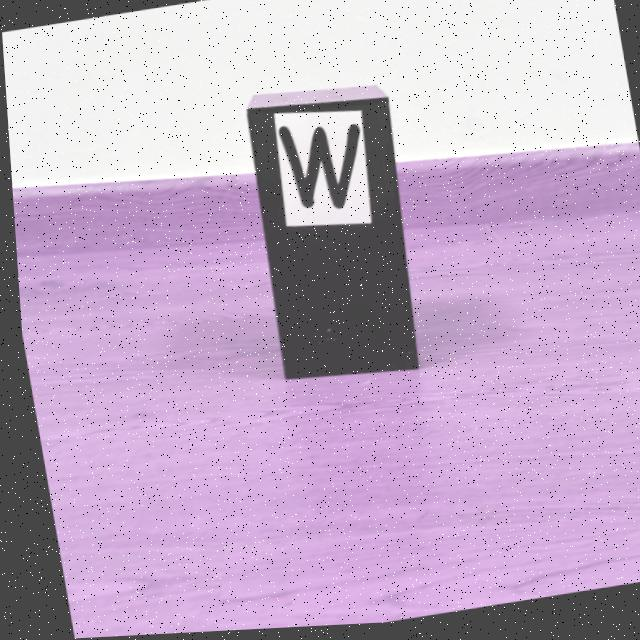W: (276, 127, 358, 211)
